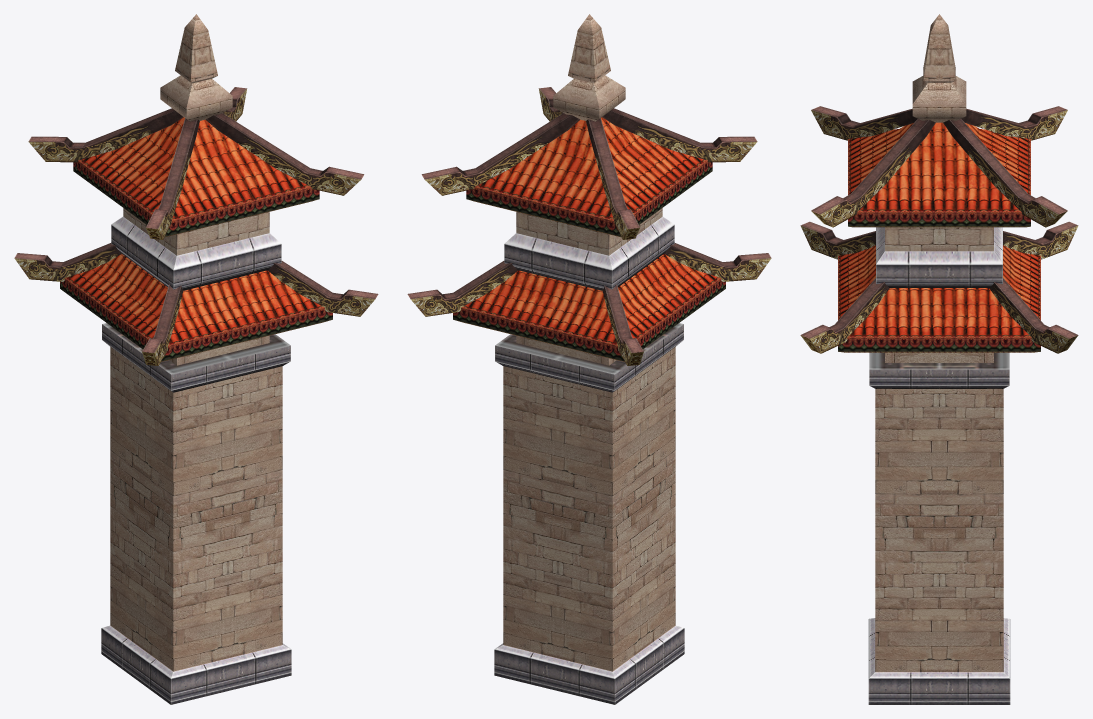
Rendered from SwordSpirit_Square_wall02.FBX.
3 renders of one model, left to right at view 1: azimuth 30°, elevation 25°; view 2: azimuth 150°, elevation 25°; view 3: azimuth 270°, elevation 25°, orthographic.
Parts seen in each view (by area): view 1: Object217; view 2: Object217; view 3: Object217.
Boxes of the visible parts, x1,y1,x2,y2 form: Object217: (14, 14, 378, 704); Object217: (407, 14, 771, 704); Object217: (800, 14, 1078, 704).
Size of the model in its own units: 671 by 1764 by 673.
Materials: 4 (4 with a texture image).
